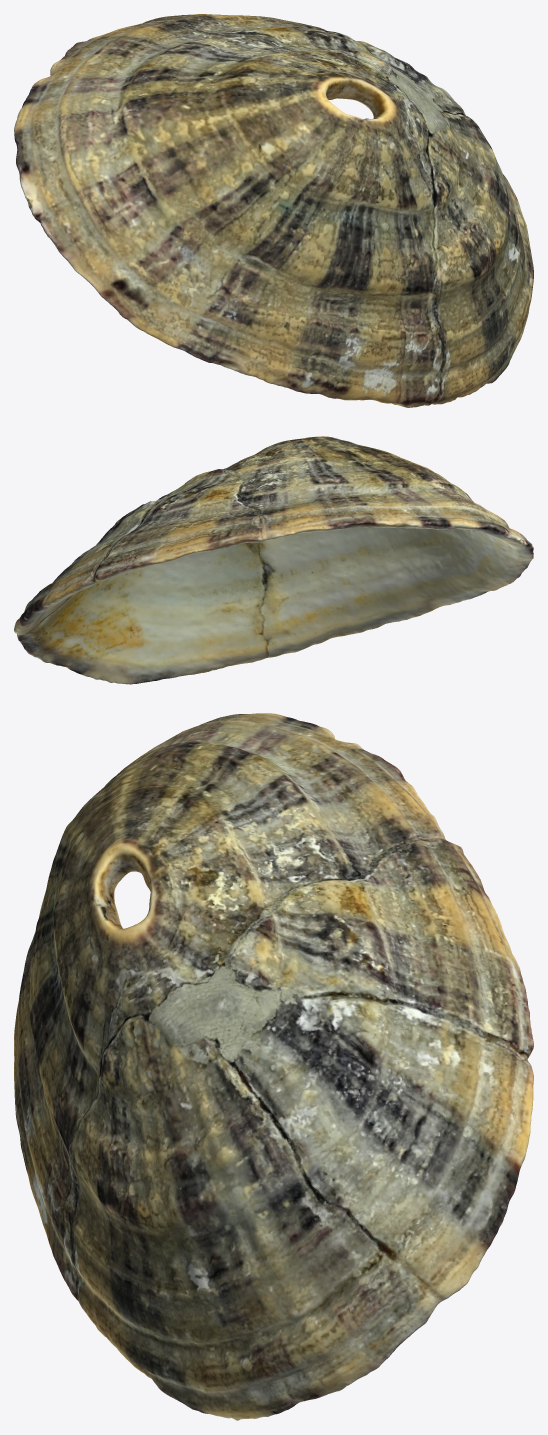
The model's file is MZUR3D-067.glb.
3 views of the same model, one above another, from view 1: azimuth 30°, elevation 25°; view 2: azimuth 150°, elevation 25°; view 3: azimuth 270°, elevation 25° (orthographic). The views are drawn at different scales.
Visible parts, largest first — view 1: MZUR3D-067; view 2: MZUR3D-067; view 3: MZUR3D-067.
Boxes of the visible parts, <box> form: MZUR3D-067: <box>14,14,533,407</box>; MZUR3D-067: <box>14,436,533,684</box>; MZUR3D-067: <box>14,713,533,1420</box>.
Size of the model in its own units: 0.7474 by 0.4619 by 0.4795.
Materials: 1 (1 with a texture image).
